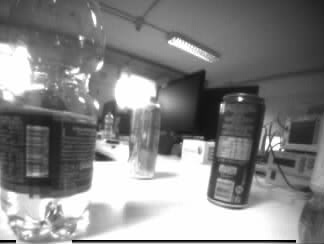Bottle: (1, 1, 99, 240), (103, 110, 113, 138)
Tin can: (211, 94, 262, 209), (129, 104, 159, 178)
